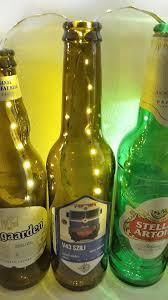Glass bottle: (0, 5, 168, 300)
